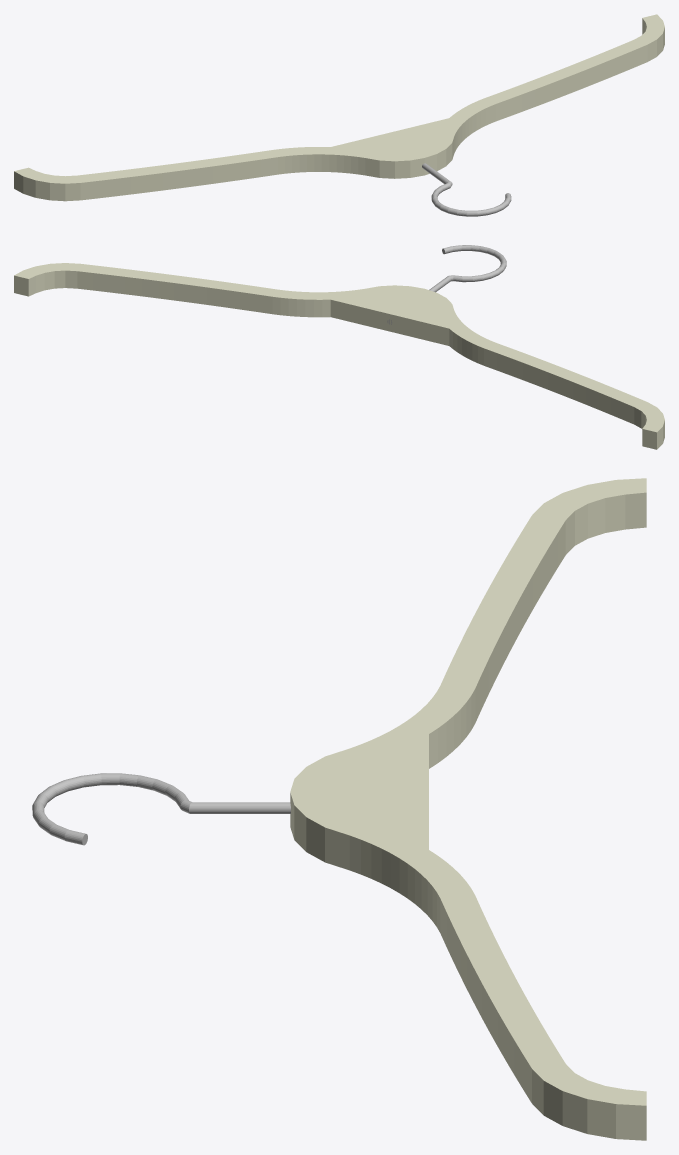
3 views of the same model, one above another, from view 1: azimuth 30°, elevation 25°; view 2: azimuth 150°, elevation 25°; view 3: azimuth 270°, elevation 25° (orthographic). The views are drawn at different scales.
Visible parts, largest first — view 1: galge coat hanger; view 2: galge coat hanger; view 3: galge coat hanger.
Boxes of the visible parts, x1,y1,x2,y2 form: galge coat hanger: (14,14,664,216); galge coat hanger: (14,245,664,449); galge coat hanger: (32,478,646,1140).
Size of the model in its own units: 19.68 by 0.5118 by 8.14.
